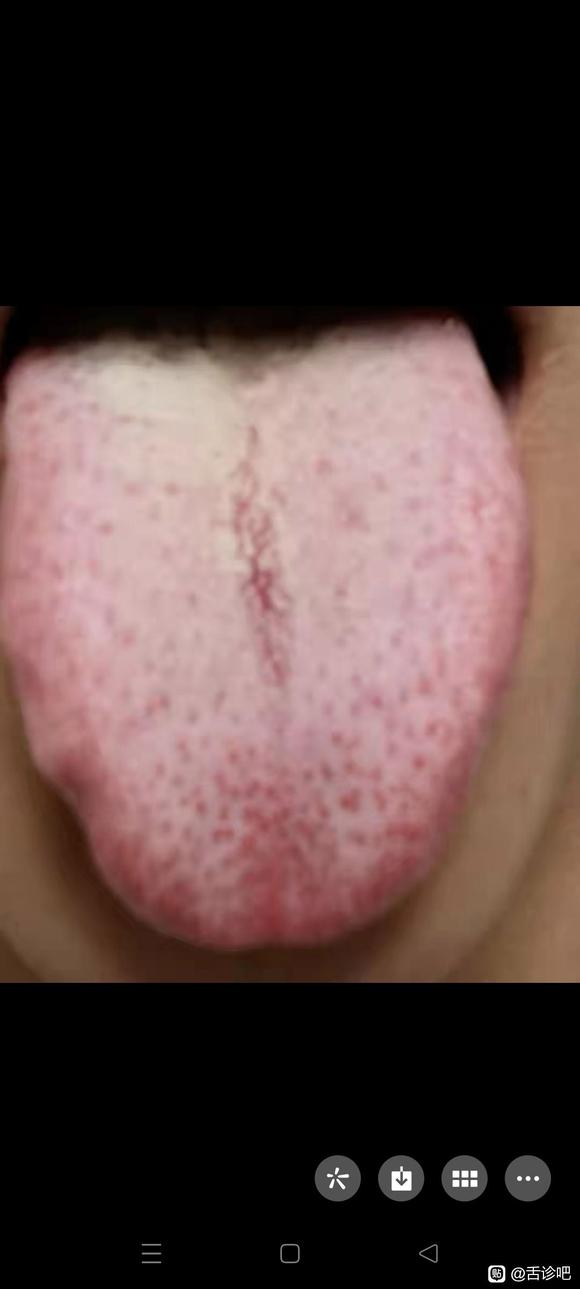baitaishe: (1, 304, 530, 948), (21, 723, 112, 873)
liewenshe: (215, 420, 296, 684)
